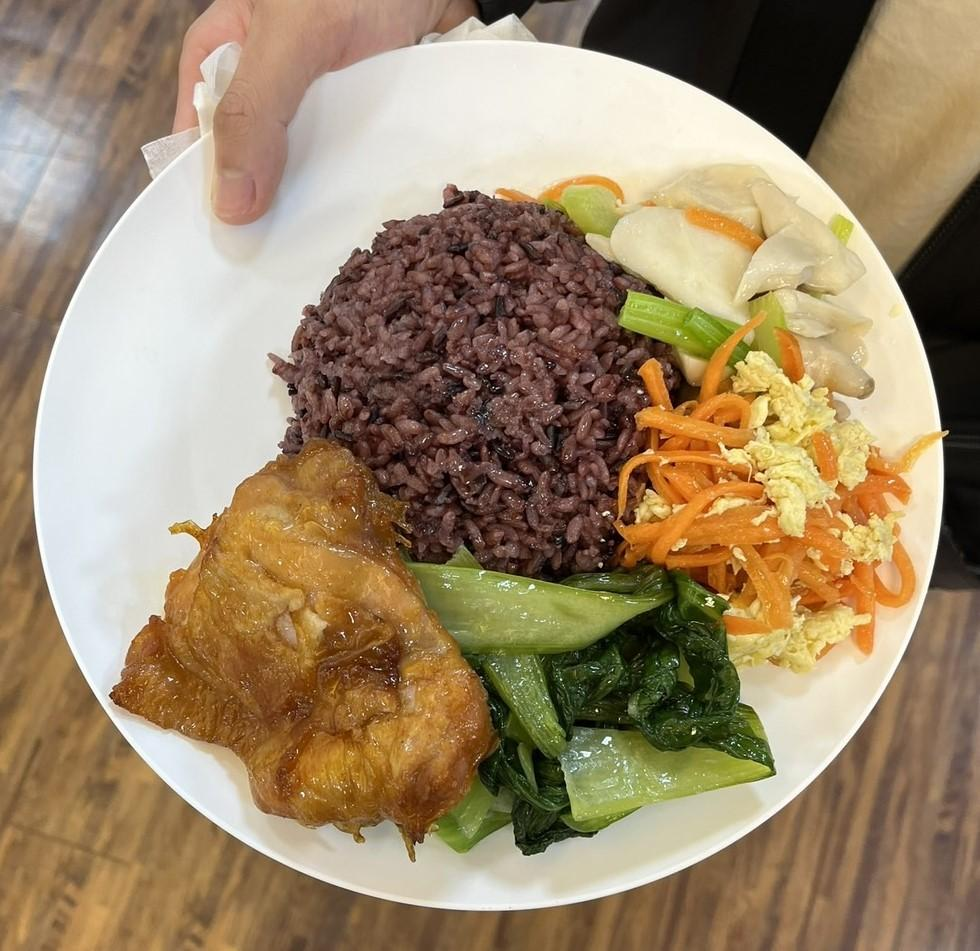big fried chicken leg: (22, 18, 961, 907)
braised fish fillet: (405, 552, 772, 859), (626, 354, 923, 665), (566, 150, 873, 403)
braised pork: (100, 430, 483, 831), (286, 190, 673, 576)
